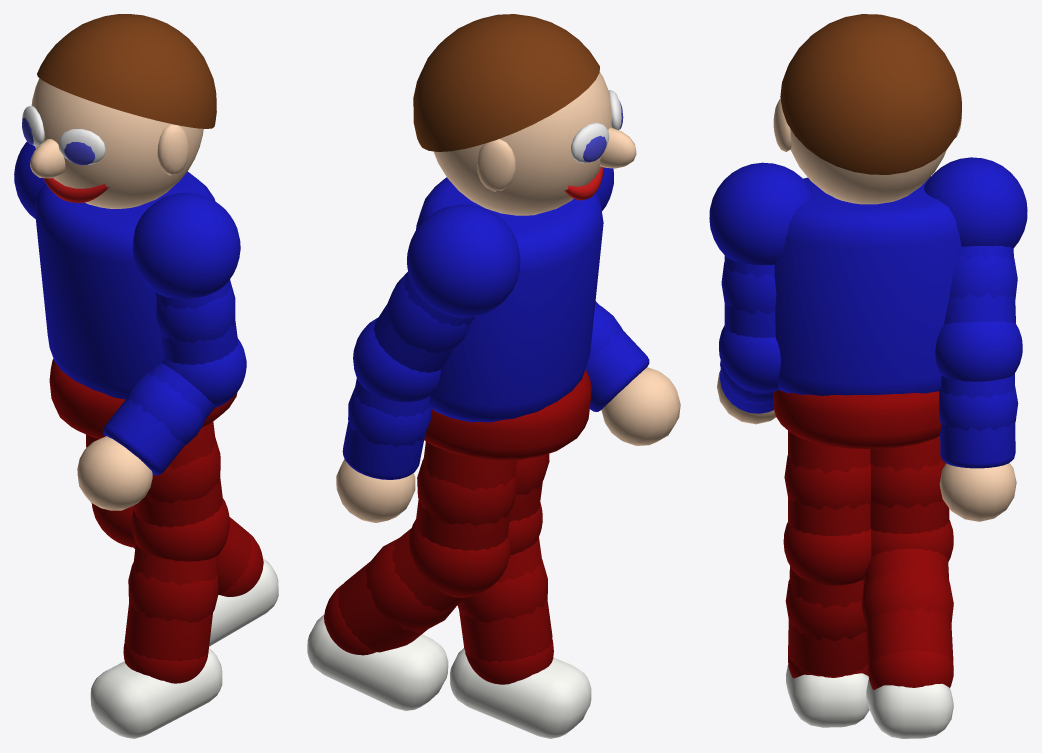
3 views of the same model, side by side, from view 1: azimuth 30°, elevation 25°; view 2: azimuth 150°, elevation 25°; view 3: azimuth 270°, elevation 25° (orthographic). The views are drawn at different scales.
Parts seen in each view (by area): view 1: torso, hair, head, shoulder_ball_n, shoe_n, shin_n, farm_n, hand_n, knee_ball_n, shin_bulge_n, pelvis, thigh_n (+17 smaller); view 2: torso, hair, head, shoulder_ball_f, shoe_n, shoe_f, pelvis, thigh_f, shin_f, shin_n, hand_n, knee_ball_f (+19 smaller); view 3: torso, hair, pelvis, shoulder_ball_n, shoulder_ball_f, shin_f, elbow_ball_f, shin_n, thigh_n, farm_f, head, knee_ball_n (+20 smaller).
Boxes of the visible parts, x1,y1,x2,y2 form: torso: (35,171,215,399); hair: (37,14,216,128); head: (31,78,203,208); shoulder_ball_n: (133,192,240,299); shoe_n: (90,648,222,738); shin_n: (124,544,219,661); farm_n: (103,363,214,475); hand_n: (77,436,152,510); knee_ball_n: (131,498,229,561); shin_bulge_n: (128,562,218,622); pelvis: (49,359,237,438); thigh_n: (133,422,222,527); torso: (416,177,603,422); hair: (413,14,599,151); head: (433,72,611,215); shoulder_ball_f: (407,204,520,317); shoe_n: (450,648,591,738); shoe_f: (307,614,448,710); pelvis: (424,369,591,460); thigh_f: (415,441,517,550); shin_f: (338,528,466,652); shin_n: (459,537,552,661); hand_n: (601,367,680,445); knee_ball_f: (408,519,510,597); torso: (774,176,961,395); hair: (780,14,961,174); pelvis: (773,390,940,448); shoulder_ball_n: (709,162,812,265); shoulder_ball_f: (924,157,1027,248); shin_f: (863,548,953,665); elbow_ball_f: (935,321,1022,381); shin_n: (788,566,867,676); thigh_n: (788,431,870,536); farm_f: (940,373,1015,468); head: (790,129,946,204); knee_ball_n: (783,522,871,585).
Size of the model in its own units: 0.6225 by 1.5 by 0.6249.
